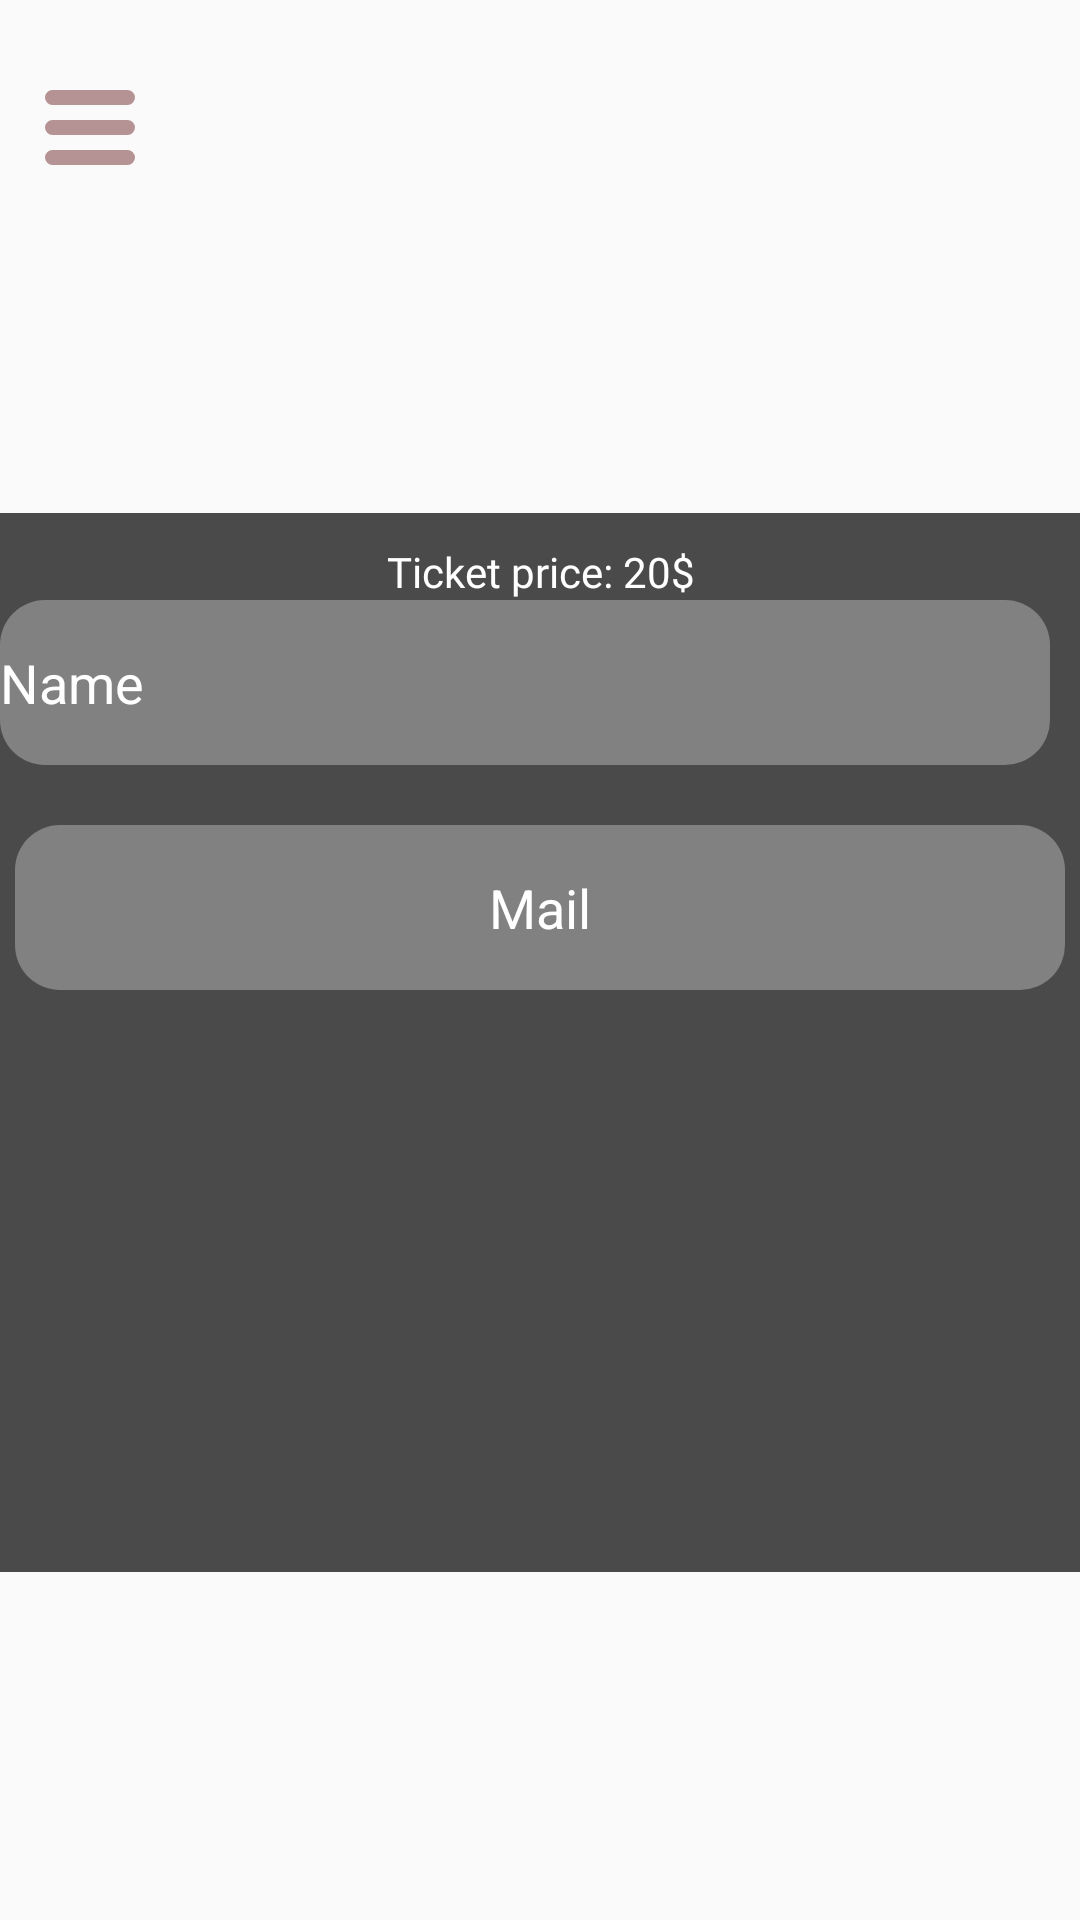

Icons on this 1080px x 1920px Android screen, each with its box as (x1, y1, x2, y2):
menubutton: (45, 90, 135, 165)
